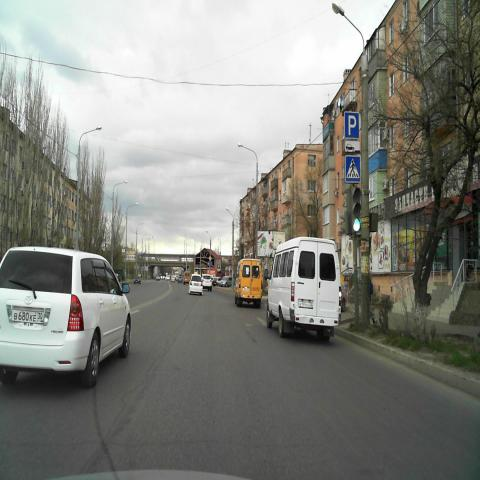8_6_4: (344, 140, 360, 153)
